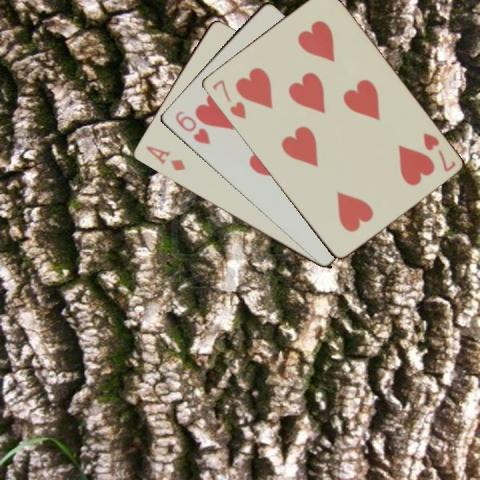6h: (172, 107, 212, 146)
7h: (209, 76, 247, 121), (419, 130, 457, 174)
Ad: (142, 142, 187, 172)
